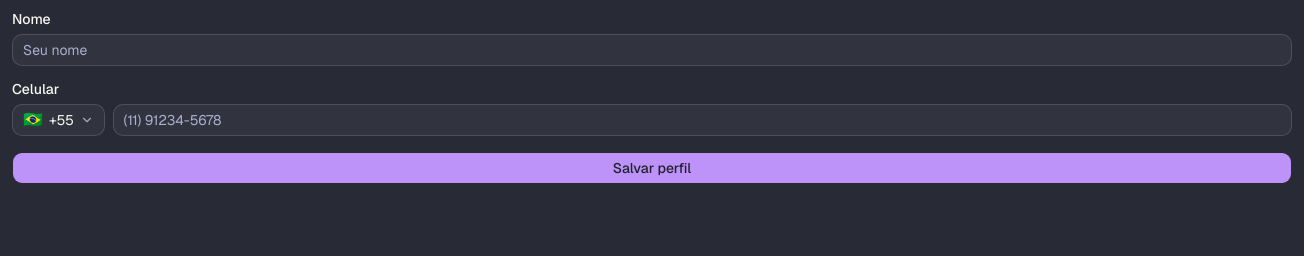
Test: ProfileForm — A11y do erro por campo (WCAG 1.3.1/3.3.1) › com erro: input aponta aria-describedby p/ um alerta com a mensagem
This screenshot has width=1304, height=256.
Step 1. Click the button "Salvar perfil" → (652, 168), box [12,152,1292,184]
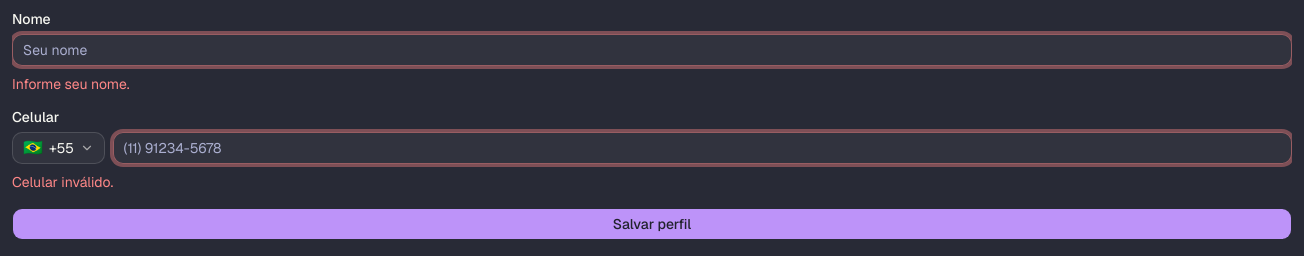
Check: the message "Informe seu nome." is shown, box [12,75,130,93]
Check: the message "Celular inválido." is shown, box [12,173,113,191]
Check: the number of messages is 2, box [12,75,130,93]; [12,173,113,191]
